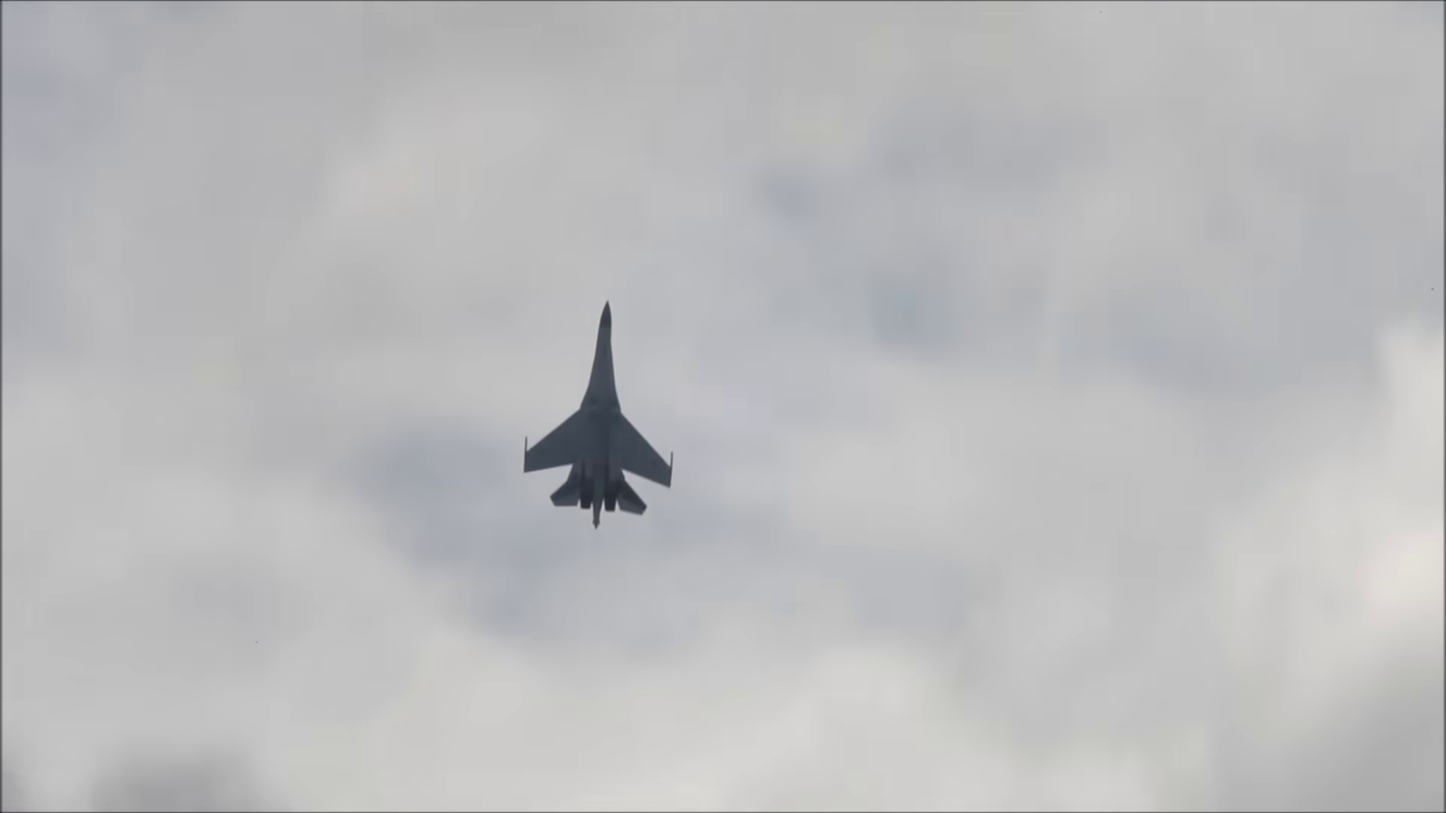Su35: (512, 292, 680, 537)
